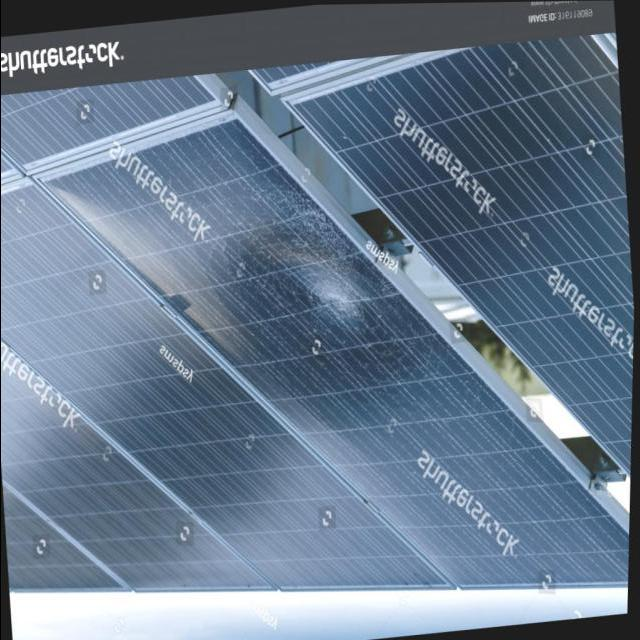cracked: (73, 109, 632, 574)
